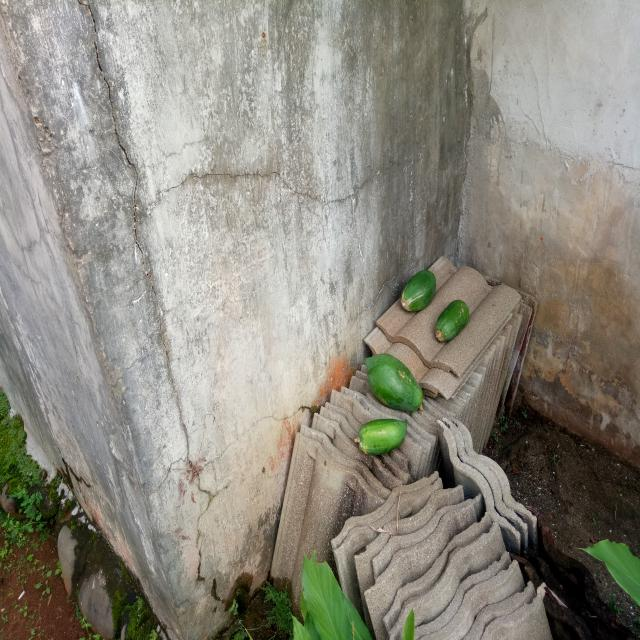Pepaya unrippen: (358, 351, 428, 414), (350, 410, 417, 469), (394, 267, 438, 313), (436, 299, 477, 344)
